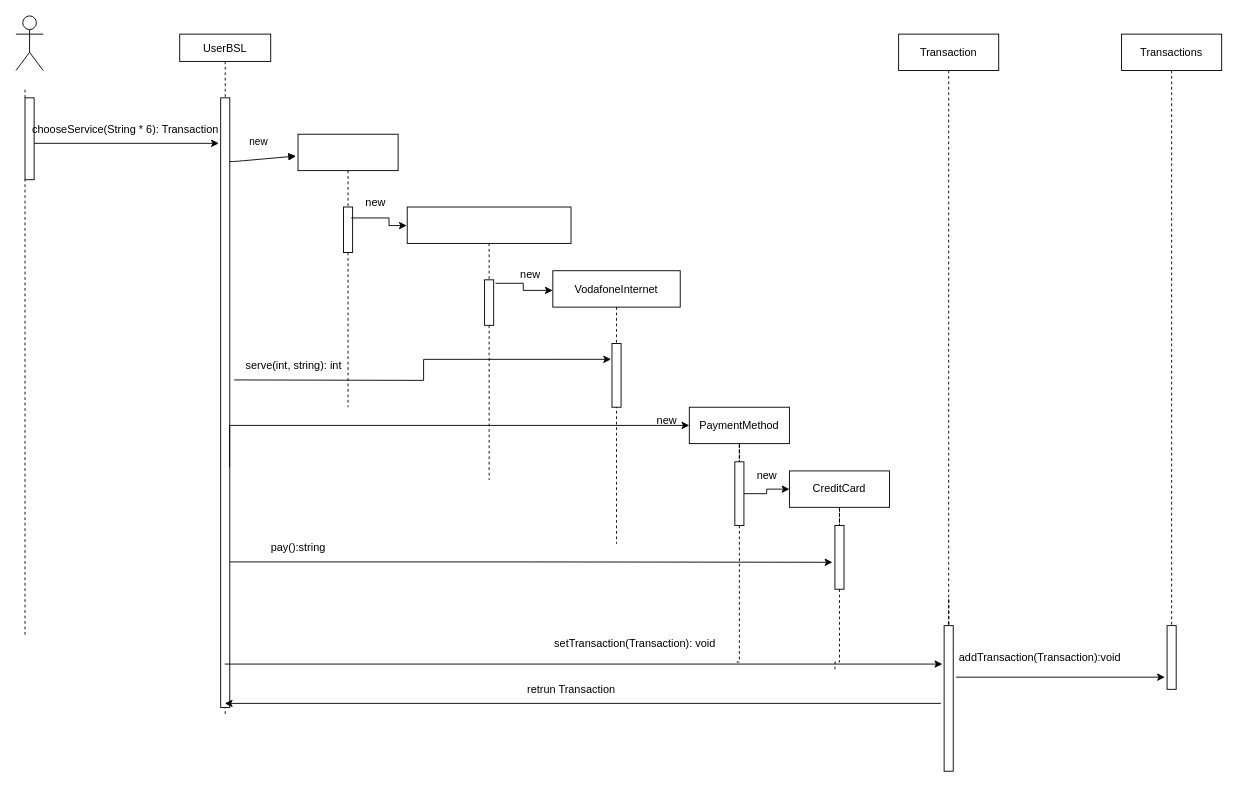
This 1238x788 diagram has some shape labels left out. The shapes that lost their labels are listed below. From the top down, each one's box as (x1, y1, x2, y2) in pixels, then its label:
(15, 15, 43, 71): user
(297, 133, 398, 407): Service
(406, 206, 571, 480): Internet Payment Service
